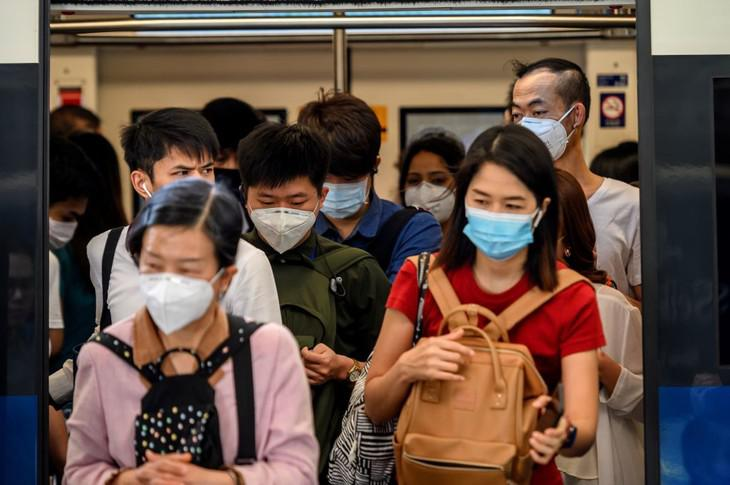mask: (133, 242, 215, 342), (463, 183, 535, 261), (248, 186, 318, 259), (506, 92, 569, 160), (401, 165, 458, 224), (318, 174, 369, 220), (49, 205, 82, 252)
